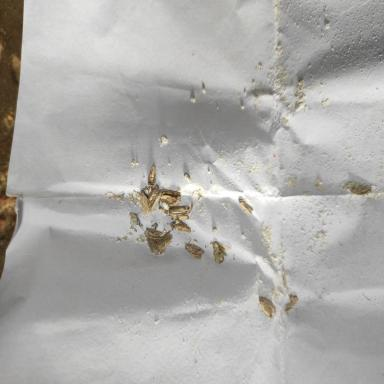pbw: (210, 240, 232, 264), (184, 238, 204, 260), (164, 205, 190, 220), (258, 296, 276, 317), (150, 187, 163, 213), (349, 182, 373, 196), (170, 218, 191, 233), (156, 230, 172, 249), (140, 191, 150, 216), (144, 227, 163, 240), (239, 198, 253, 215), (160, 195, 178, 206), (147, 165, 156, 187), (147, 237, 157, 253), (168, 198, 181, 210)
